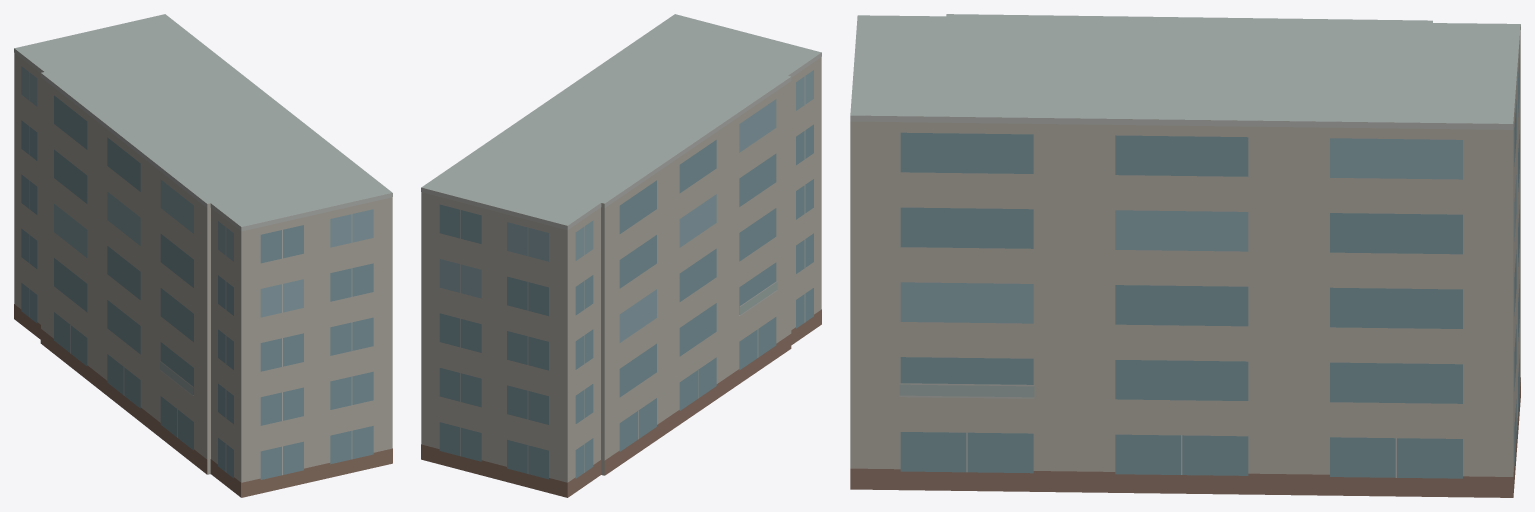
Rendered from survey-upis-32955659.glb.
The picture shows the model from 3 angles, left to right: view 1: azimuth 30°, elevation 25°; view 2: azimuth 150°, elevation 25°; view 3: azimuth 270°, elevation 25°; orthographic projection. The views are drawn at different scales.
Parts seen in each view (by area): view 1: survey-upis-32955659.tmp; view 2: survey-upis-32955659.tmp; view 3: survey-upis-32955659.tmp.
Part boxes in pixels (<box>): survey-upis-32955659.tmp: <box>14,14,392,497</box>; survey-upis-32955659.tmp: <box>421,14,821,497</box>; survey-upis-32955659.tmp: <box>850,14,1520,497</box>.
Size of the model in its own units: 9.63 by 15.25 by 24.79.
